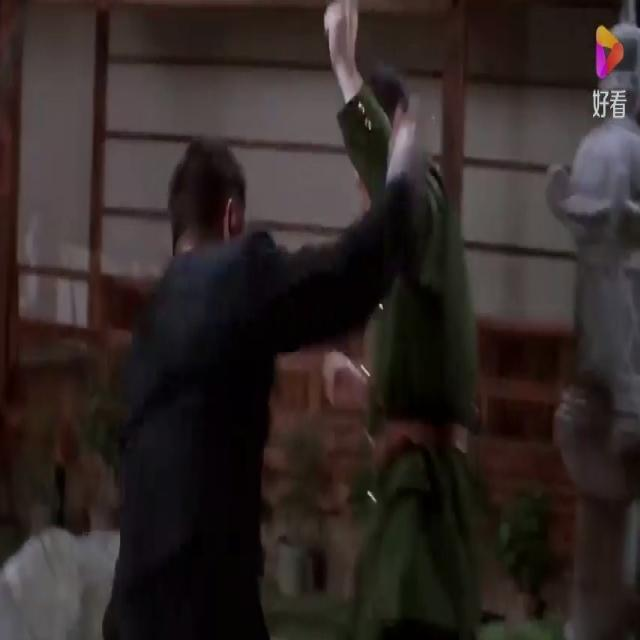fight: (68, 39, 550, 638)
